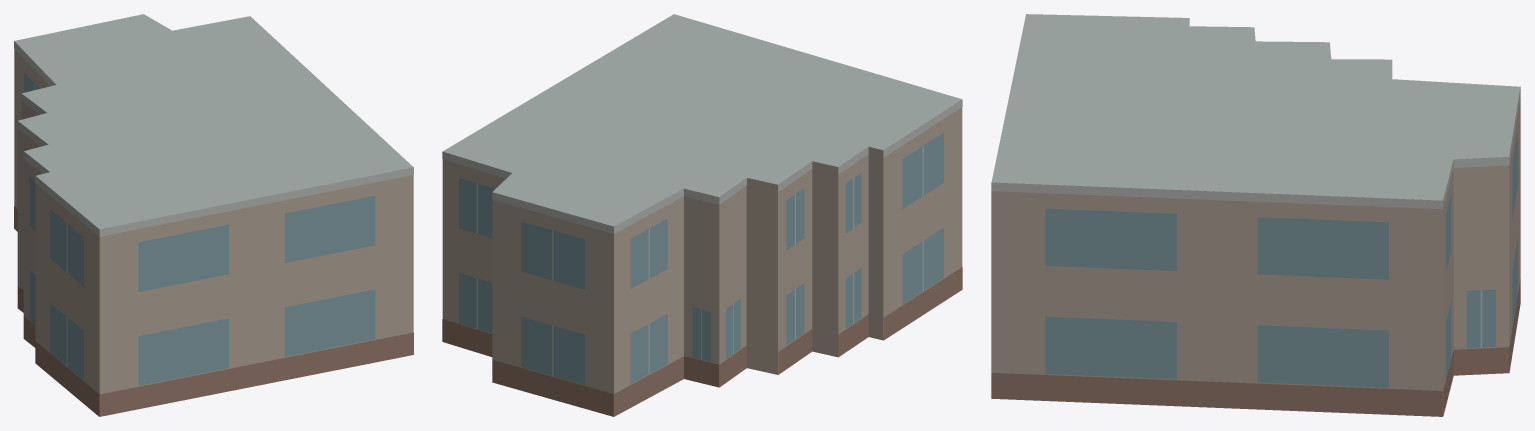
The model's file is survey-upis-32999206.glb.
3 views of the same model, side by side, from view 1: azimuth 30°, elevation 25°; view 2: azimuth 150°, elevation 25°; view 3: azimuth 270°, elevation 25° (orthographic). The views are drawn at different scales.
Parts seen in each view (by area): view 1: survey-upis-32999206.tmp; view 2: survey-upis-32999206.tmp; view 3: survey-upis-32999206.tmp.
Part boxes in pixels (box(x1,y1,x2,y2)): survey-upis-32999206.tmp: box(14, 14, 413, 416); survey-upis-32999206.tmp: box(442, 14, 962, 416); survey-upis-32999206.tmp: box(991, 14, 1520, 416).
Bounding box in the file's own units: 11.3 × 6.1 × 13.54.
